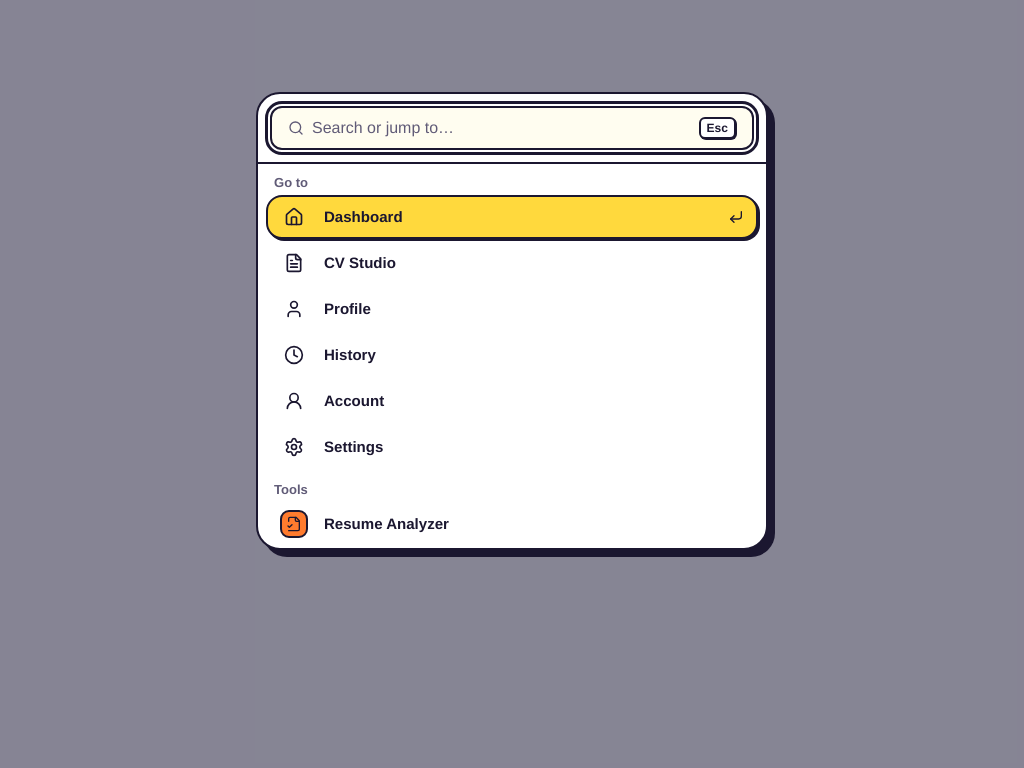
Scenario: CommandPalette › hides job-search destinations from guests
The width and height of the screenshot is (1024, 768).
Type "discover" into the dropdown labelled "Search" at (501, 128), box [312,108,691,148]
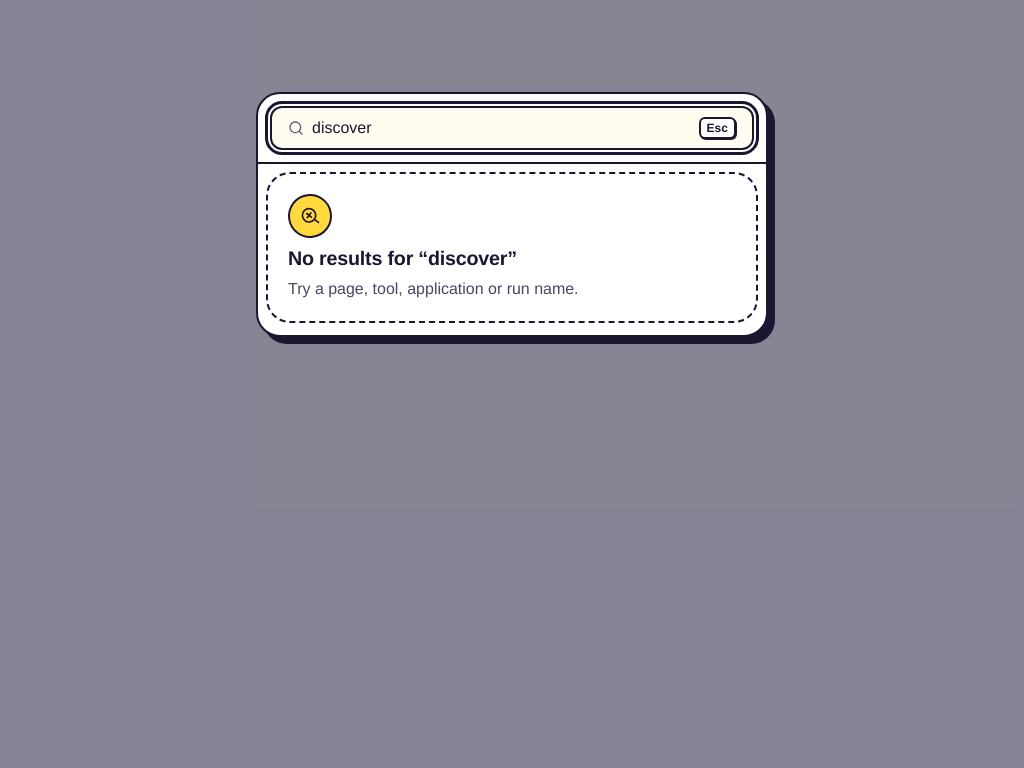
Expected: the 2nd icon is shown, [299,205,321,228]
Now the text "No results for “discover”" is shown, box [288,246,517,270]
